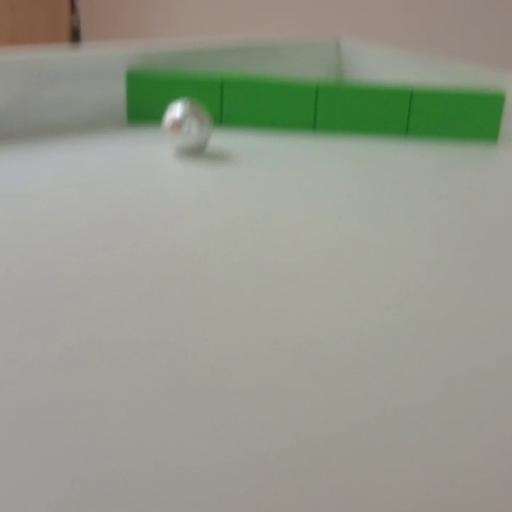alive: (162, 98, 212, 154)
